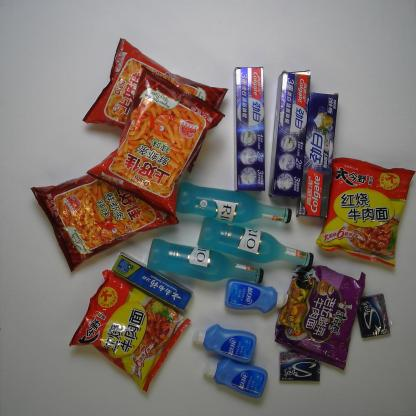Alcohol: (197, 218, 313, 268), (147, 239, 264, 286), (172, 182, 292, 225)
Gum: (352, 294, 390, 339), (278, 349, 321, 382)
Instant Noodles: (69, 269, 192, 391), (314, 157, 416, 266), (274, 264, 366, 371)
Personal Hygiene: (269, 70, 312, 200), (295, 93, 339, 220), (112, 252, 192, 312), (234, 66, 266, 191), (203, 358, 268, 398), (192, 324, 257, 363), (224, 280, 289, 314)
Puffed Food: (86, 66, 225, 220), (82, 38, 229, 172), (30, 142, 180, 272)
